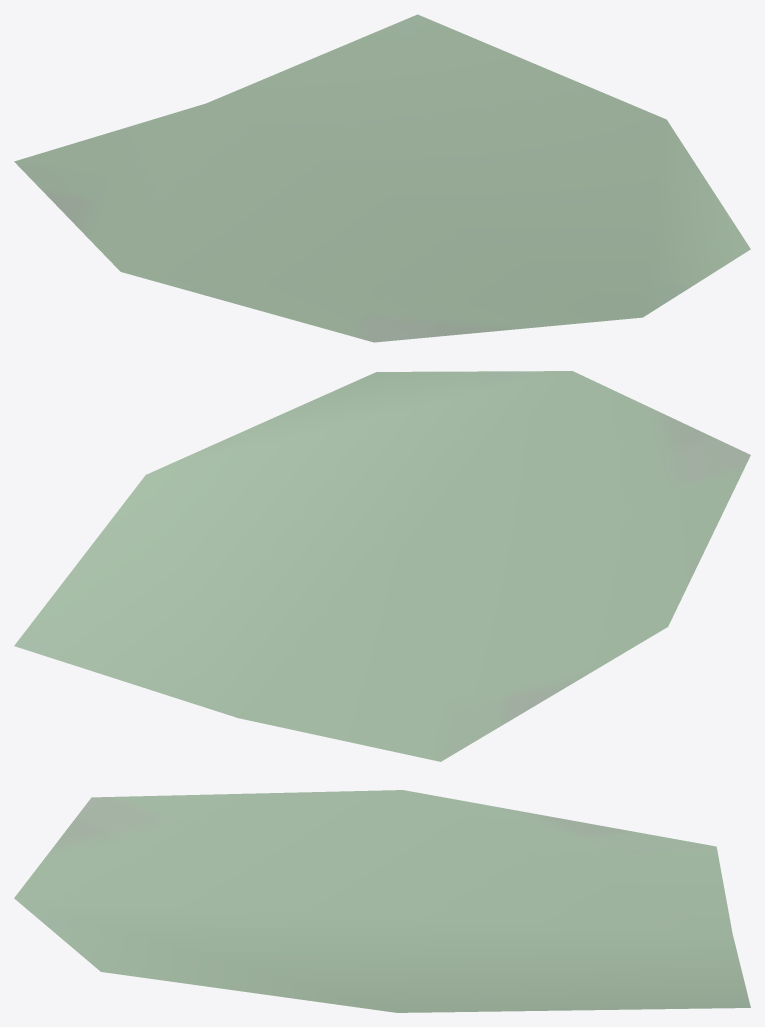
Rendered from TROLLHOLE02_HOLECAP134.fbx.
3 renders of one model, top to bottom at view 1: azimuth 30°, elevation 25°; view 2: azimuth 150°, elevation 25°; view 3: azimuth 270°, elevation 25°, orthographic. The views are drawn at different scales.
Visible parts, largest first — view 1: TROLLHOLE02_HOLECAP134; view 2: TROLLHOLE02_HOLECAP134; view 3: TROLLHOLE02_HOLECAP134.
Part boxes in pixels (bbox=[...]): TROLLHOLE02_HOLECAP134: bbox=[14, 14, 750, 342]; TROLLHOLE02_HOLECAP134: bbox=[14, 371, 750, 761]; TROLLHOLE02_HOLECAP134: bbox=[14, 790, 750, 1012].
Size of the model in its own units: 18381 by 2065 by 23527.
Materials: 1 (1 with a texture image).
